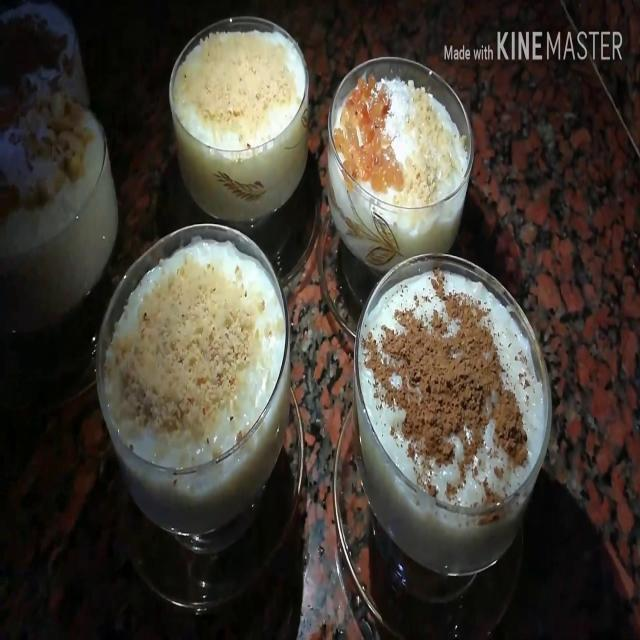roz blabn: (98, 234, 298, 534), (352, 268, 550, 568), (326, 71, 470, 251), (169, 25, 311, 203)
